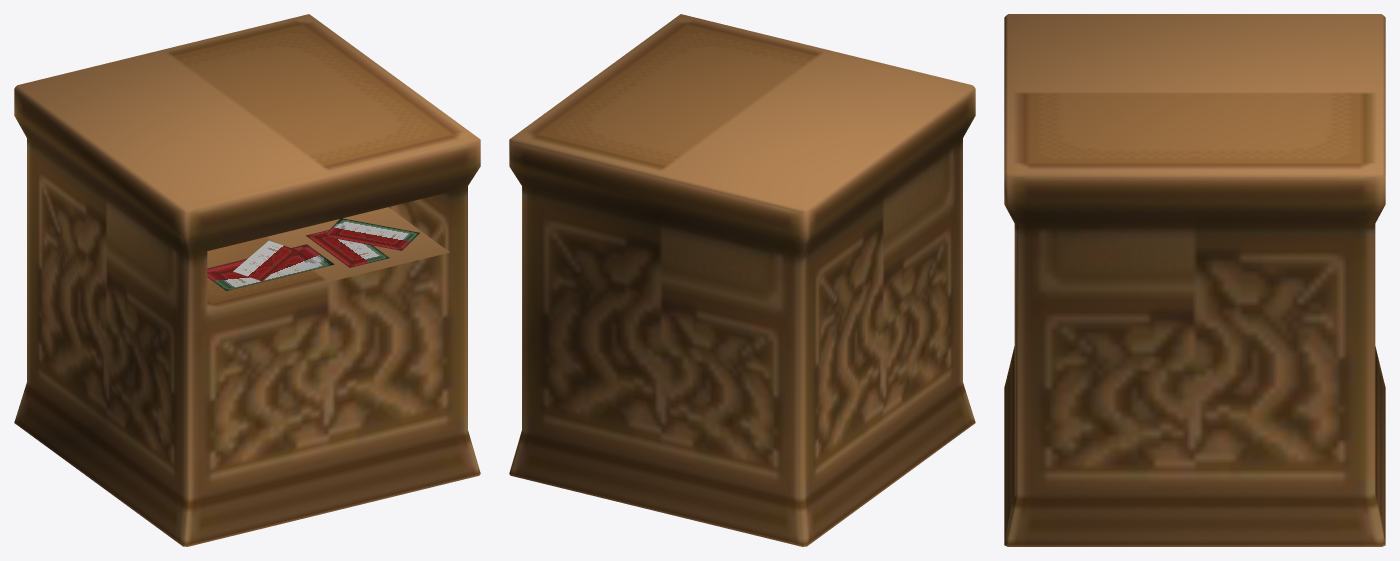
File: int_oth_regicounter.dae
The picture shows the model from 3 angles, left to right: view 1: azimuth 30°, elevation 25°; view 2: azimuth 150°, elevation 25°; view 3: azimuth 270°, elevation 25°; orthographic projection. The views are drawn at different scales.
Parts seen in each view (by area): view 1: int_oth_regicounter; view 2: int_oth_regicounter; view 3: int_oth_regicounter.
Part boxes in pixels (box(x1,y1,x2,y2)): int_oth_regicounter: box(14, 14, 480, 546); int_oth_regicounter: box(509, 14, 975, 546); int_oth_regicounter: box(1004, 14, 1385, 546).
Bounding box in the file's own units: 25.94 × 28.04 × 25.94.
Materials: 2 (2 with a texture image).
